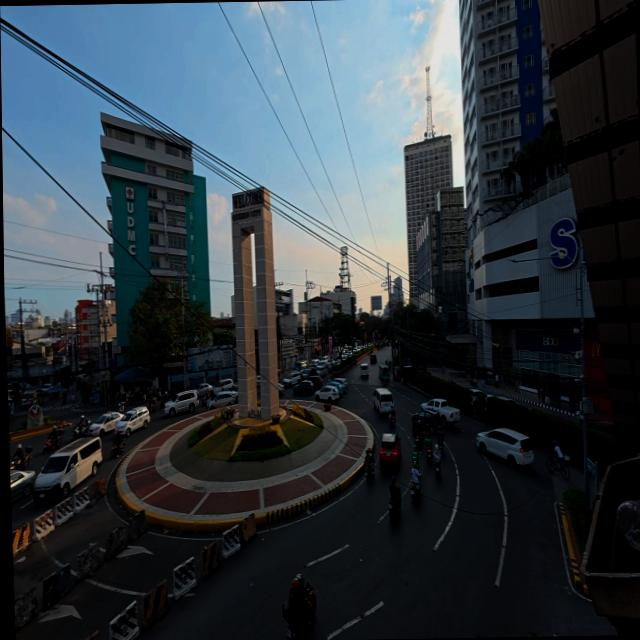car: (476, 425, 533, 466), (163, 390, 198, 414), (313, 382, 343, 402), (373, 390, 394, 417)
vans: (32, 440, 105, 510)
